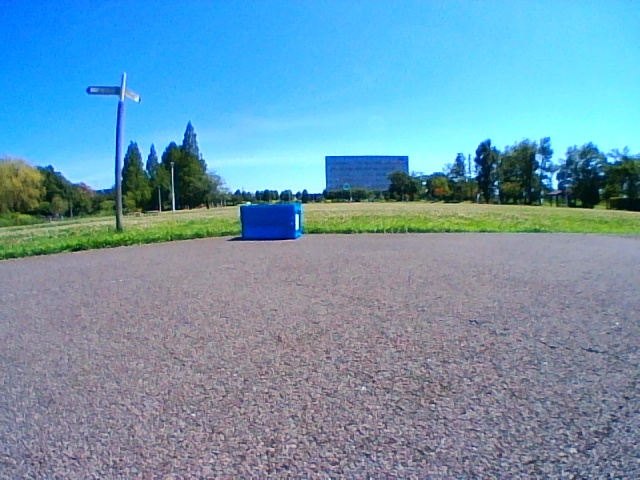blue_box: (240, 203, 301, 239)
tag: (295, 213, 298, 231)
